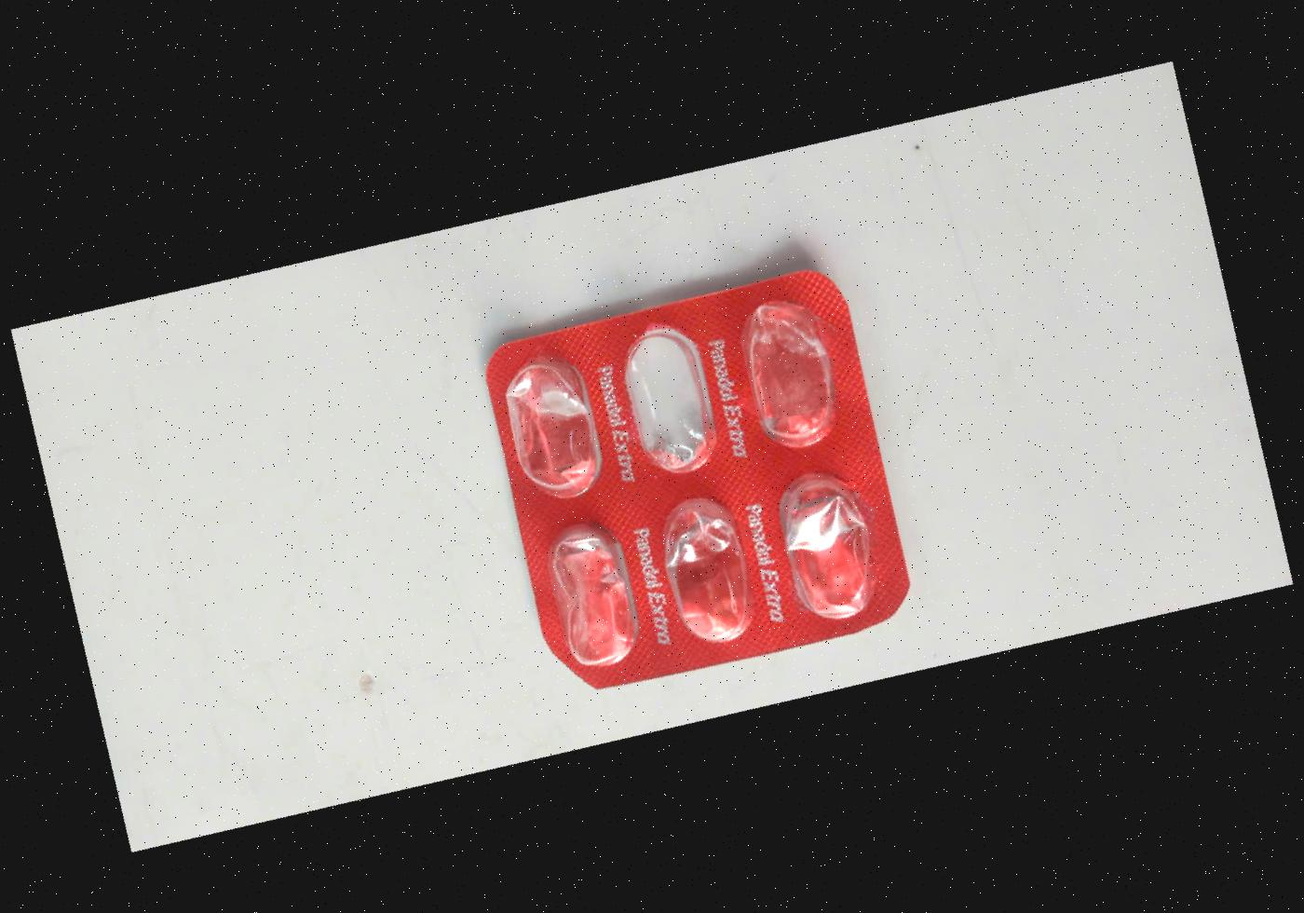Empty: (757, 459, 891, 635), (523, 503, 657, 679), (723, 286, 857, 462), (484, 335, 618, 511), (638, 485, 772, 660), (605, 310, 739, 485)
